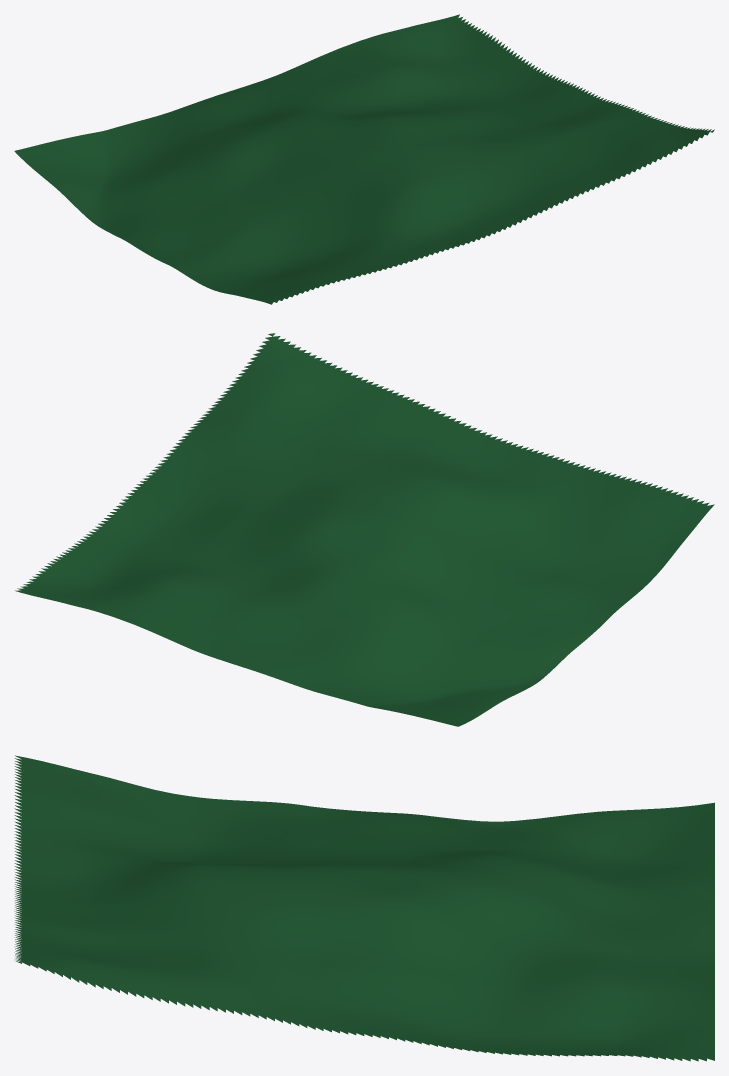
Rendered from payo_land_x2_ym2_lod1.glb.
3 views of the same model, one above another, from view 1: azimuth 30°, elevation 25°; view 2: azimuth 150°, elevation 25°; view 3: azimuth 270°, elevation 25° (orthographic). The views are drawn at different scales.
Visible parts, largest first — view 1: payo_land_x2_ym2; view 2: payo_land_x2_ym2; view 3: payo_land_x2_ym2.
Part boxes in pixels (<box>): payo_land_x2_ym2: <box>14,14,714,304</box>; payo_land_x2_ym2: <box>15,333,714,726</box>; payo_land_x2_ym2: <box>14,755,714,1061</box>.
Size of the model in its own units: 258 by 62.5 by 258.
